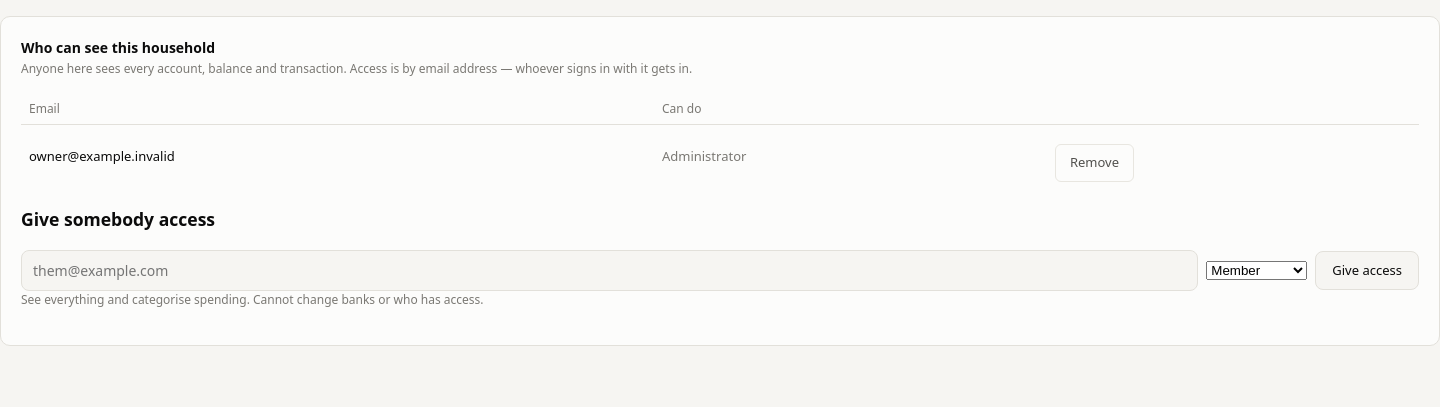
giving somebody access › catches a malformed address without a round trip
Expected: the text "owner@example.invalid" is shown, [21, 124, 654, 188]
In the field named "Email address": (610, 270) [21, 250, 1198, 291], type "not-an-address"
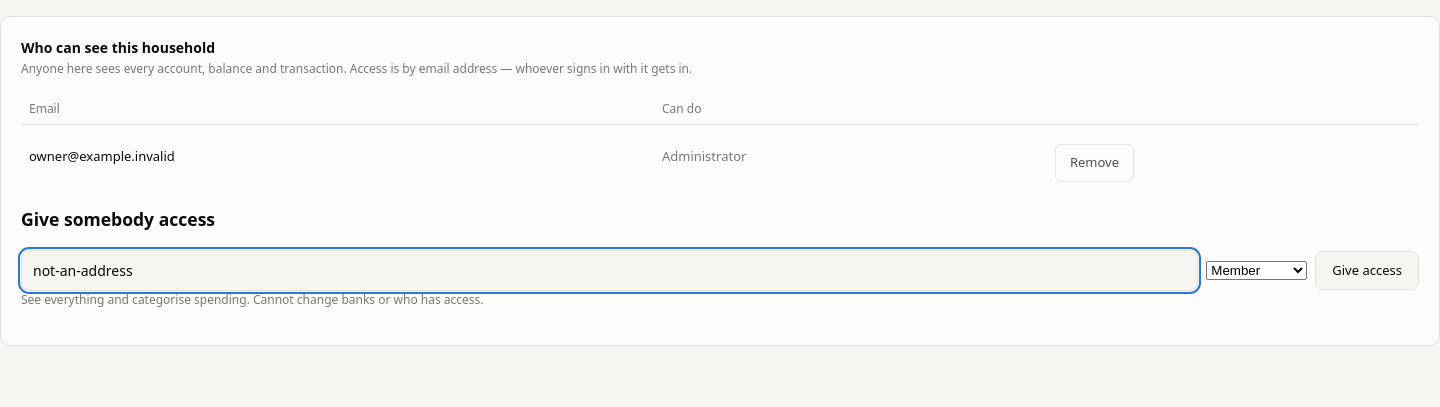
Click the button "Give access": (1367, 270) [1315, 251, 1419, 290]
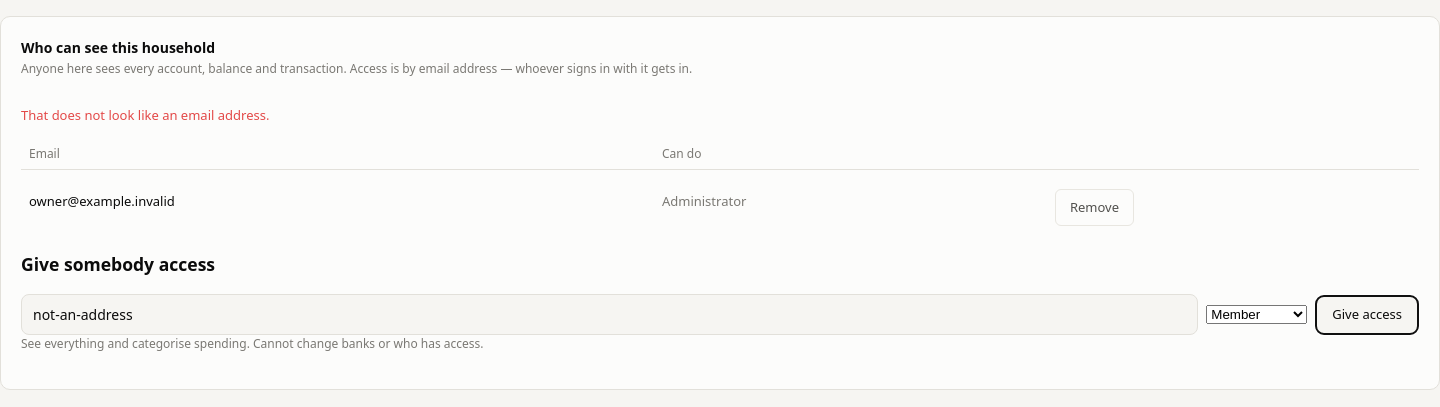
Expected: the text "That does not look like an email address." is shown, [21, 106, 269, 124]
